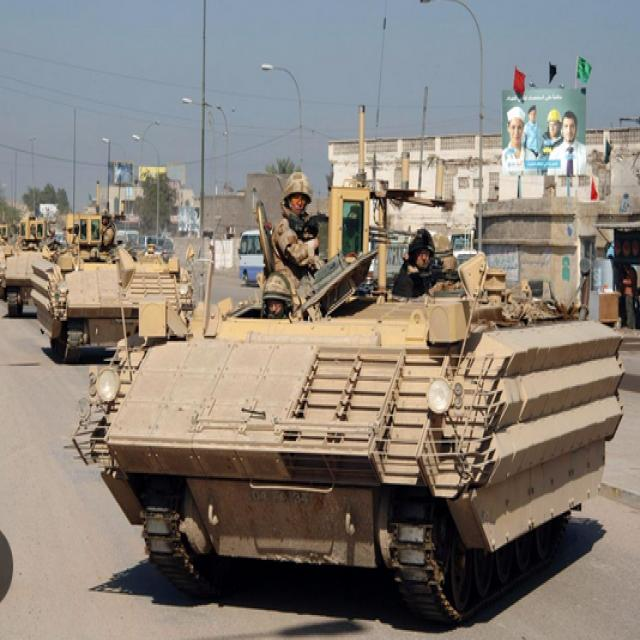MIL_APC: (101, 246, 632, 599)
